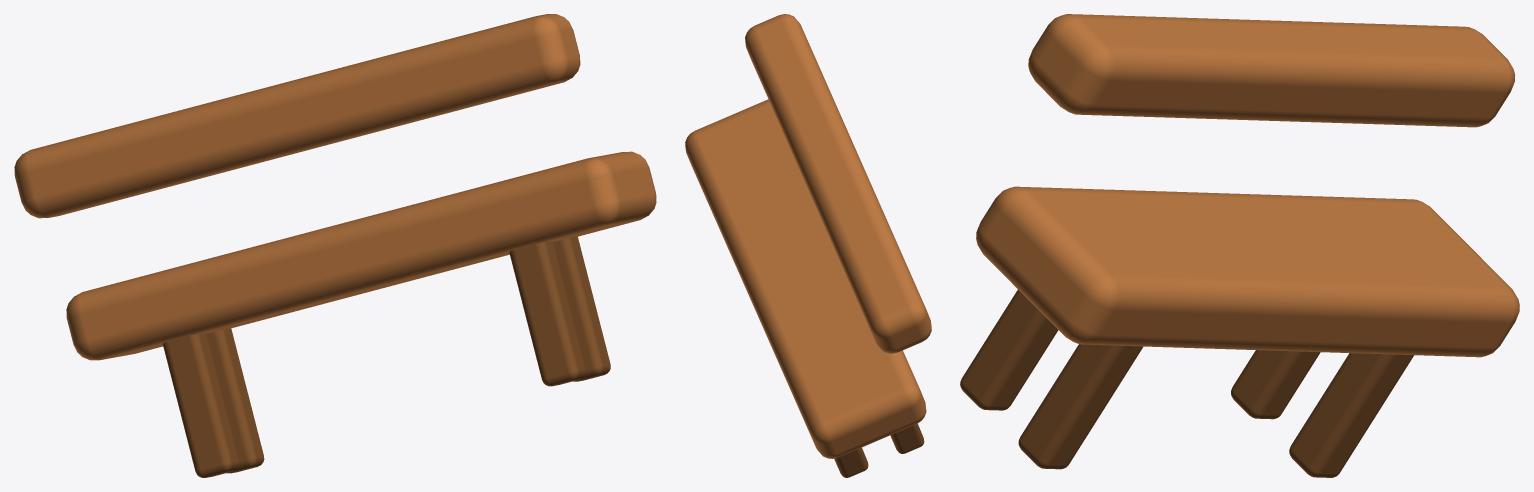
File: bench.glb
3 renders of one model, left to right at view 1: azimuth 30°, elevation 25°; view 2: azimuth 150°, elevation 25°; view 3: azimuth 270°, elevation 25°, orthographic. The views are drawn at different scales.
Size of the model in its own units: 1.61 by 1.59 by 1.41.
